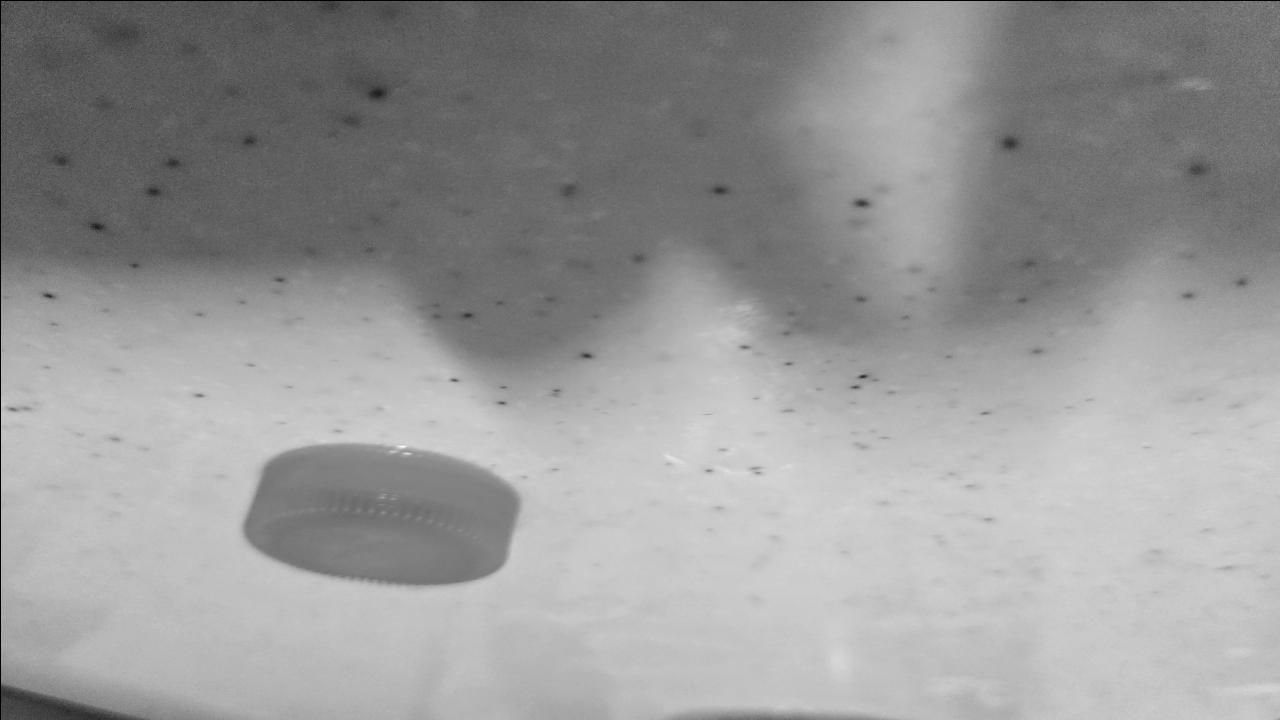bottle_cap: (239, 440, 523, 588)
